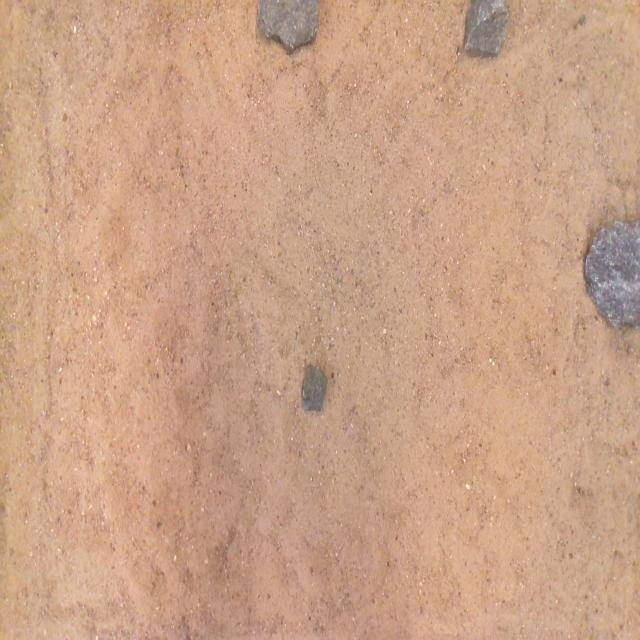rock: (584, 222, 640, 326), (257, 0, 317, 50), (464, 0, 509, 56), (302, 364, 327, 411)
